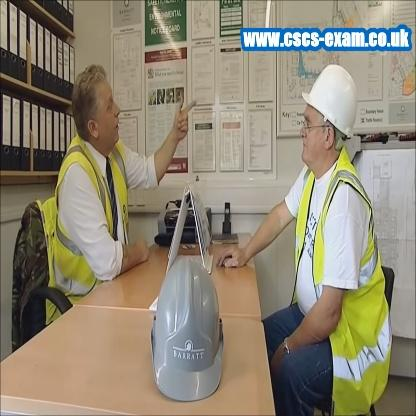helmet: (285, 62, 358, 180)
